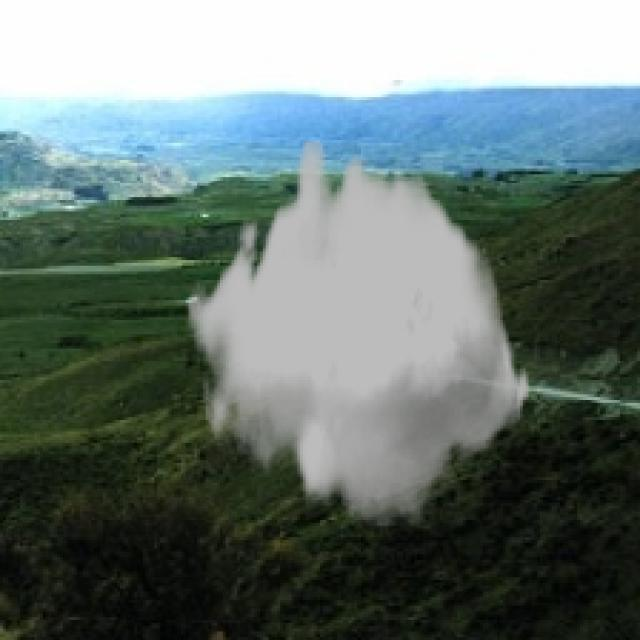Smoke: (186, 140, 532, 526)
